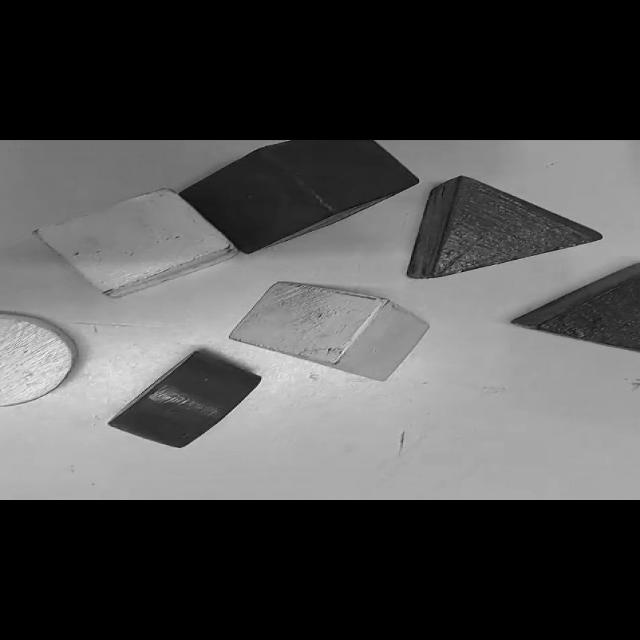rcircle: (109, 351, 261, 447)
rcube: (180, 140, 419, 254)
rtriangle: (408, 176, 602, 279)
ycircle: (0, 314, 76, 407)
ycube: (34, 189, 238, 297)
ytriangle: (229, 283, 428, 381), (512, 263, 639, 353)
